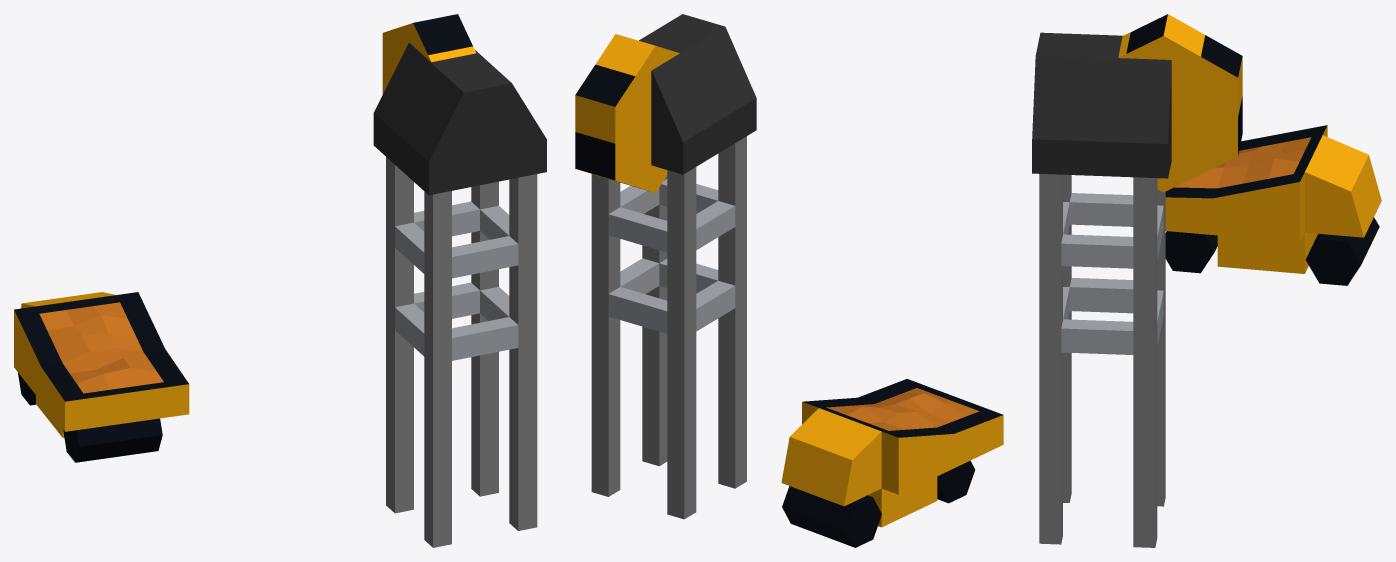
The model's file is Border_12_exploring.fbx.
The picture shows the model from 3 angles, left to right: view 1: azimuth 30°, elevation 25°; view 2: azimuth 150°, elevation 25°; view 3: azimuth 270°, elevation 25°; orthographic projection. The views are drawn at different scales.
Visible parts, largest first — view 1: Cube.026, Cube.027, Cylinder.012; view 2: Cube.026, Cube.027, Cylinder.012; view 3: Cube.026, Cube.027, Cylinder.012.
Part boxes in pixels (x1,y1,x2,y2): Cube.026: (373,42,546,547); Cube.027: (14,292,189,462); Cylinder.012: (382,14,475,94); Cube.026: (591,14,756,519); Cube.027: (781,379,1003,547); Cylinder.012: (575,34,679,192); Cube.026: (1032,32,1171,547); Cube.027: (1165,125,1381,285); Cylinder.012: (1118,14,1242,192).
Size of the model in its own units: 149 by 158 by 100.
